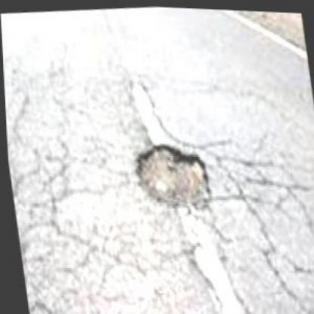Hueco: (128, 135, 214, 214)
